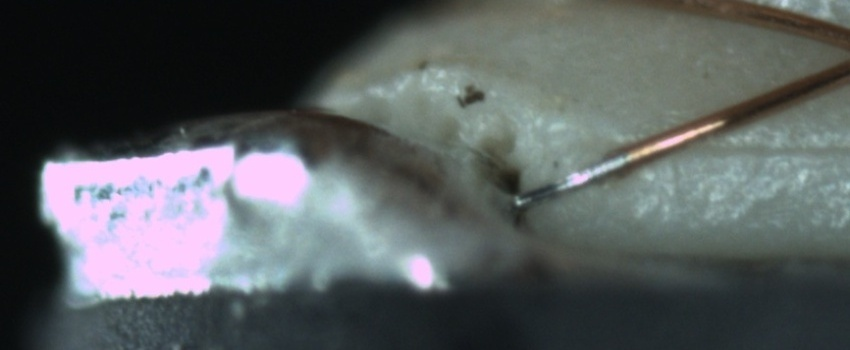DL: (676, 114, 849, 178)
TS: (512, 152, 628, 209)
